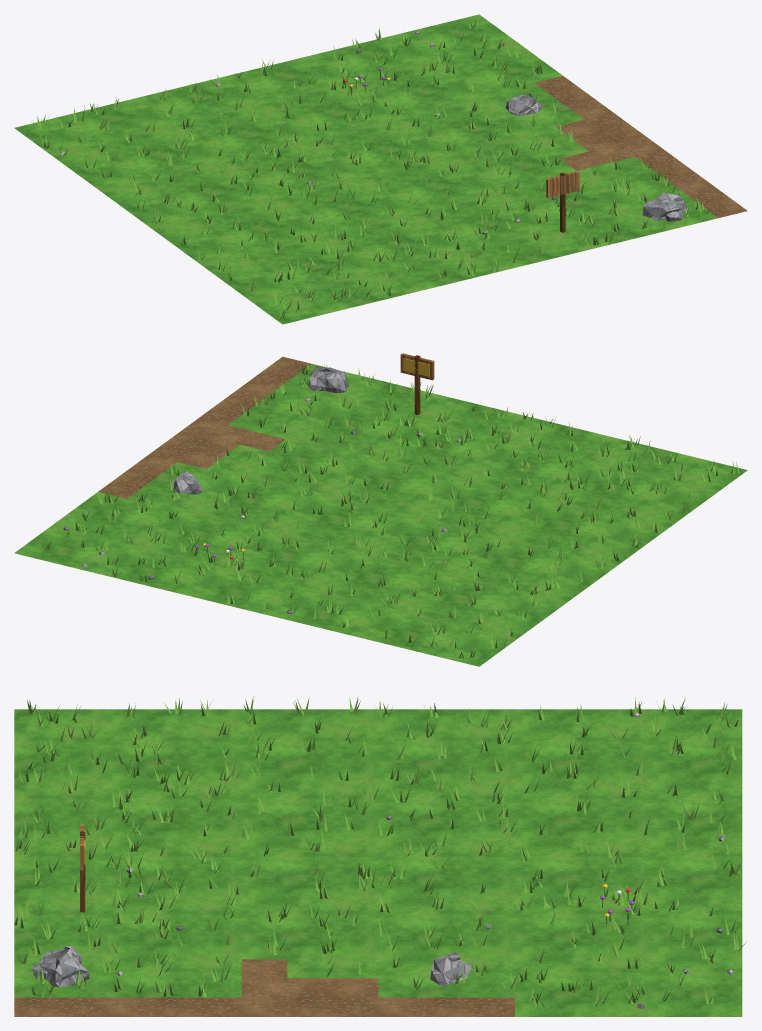
File: chunk_5_8.glb
3 renders of one model, top to bottom at view 1: azimuth 30°, elevation 25°; view 2: azimuth 150°, elevation 25°; view 3: azimuth 270°, elevation 25°, orthographic. The views are drawn at different scales.
Parts seen in each view (by area): view 1: chunk_5_8; view 2: chunk_5_8; view 3: chunk_5_8.
Boxes of the visible parts, box(x1,y1,x2,y2) form: chunk_5_8: box(14, 14, 747, 324); chunk_5_8: box(14, 353, 747, 666); chunk_5_8: box(14, 696, 746, 1016).
Bounding box in the file's own units: 16.06 × 2.31 × 16.13.
14 materials, 8 textured.
